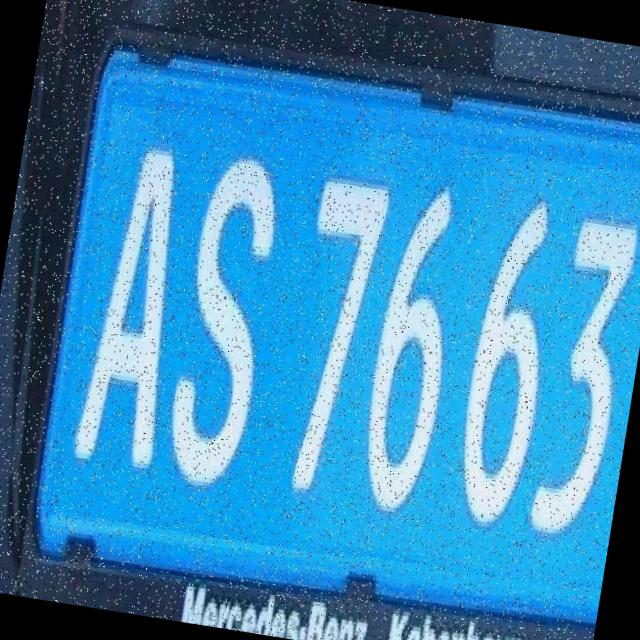LicensePlate: (21, 16, 640, 634)
